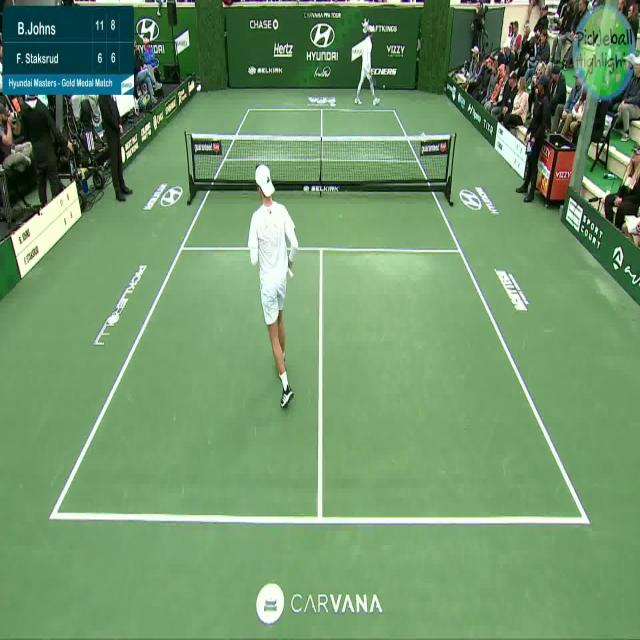ball: (382, 82, 386, 89)
